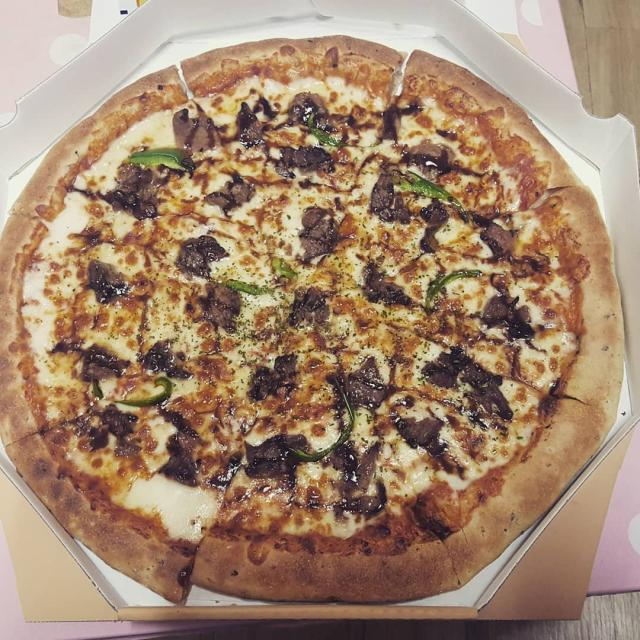mushrooms: (478, 272, 537, 346), (464, 356, 524, 428), (474, 209, 544, 265), (238, 432, 305, 482), (276, 136, 340, 187), (107, 164, 166, 217), (91, 410, 154, 459), (167, 104, 224, 158), (329, 357, 386, 411), (393, 404, 447, 460), (168, 235, 232, 280), (80, 250, 136, 300), (286, 88, 346, 134), (70, 341, 138, 378), (291, 202, 335, 258), (198, 176, 250, 218), (198, 281, 238, 334), (244, 356, 290, 399), (343, 481, 388, 524), (366, 170, 406, 218), (289, 277, 324, 331), (421, 202, 450, 266), (149, 340, 197, 378), (408, 140, 462, 173), (421, 346, 459, 385), (238, 98, 267, 148)
peppers: (291, 379, 354, 461), (228, 246, 302, 295), (399, 167, 462, 212), (125, 143, 198, 173), (309, 119, 367, 152), (122, 375, 174, 408)
pizza: (0, 36, 626, 609)
